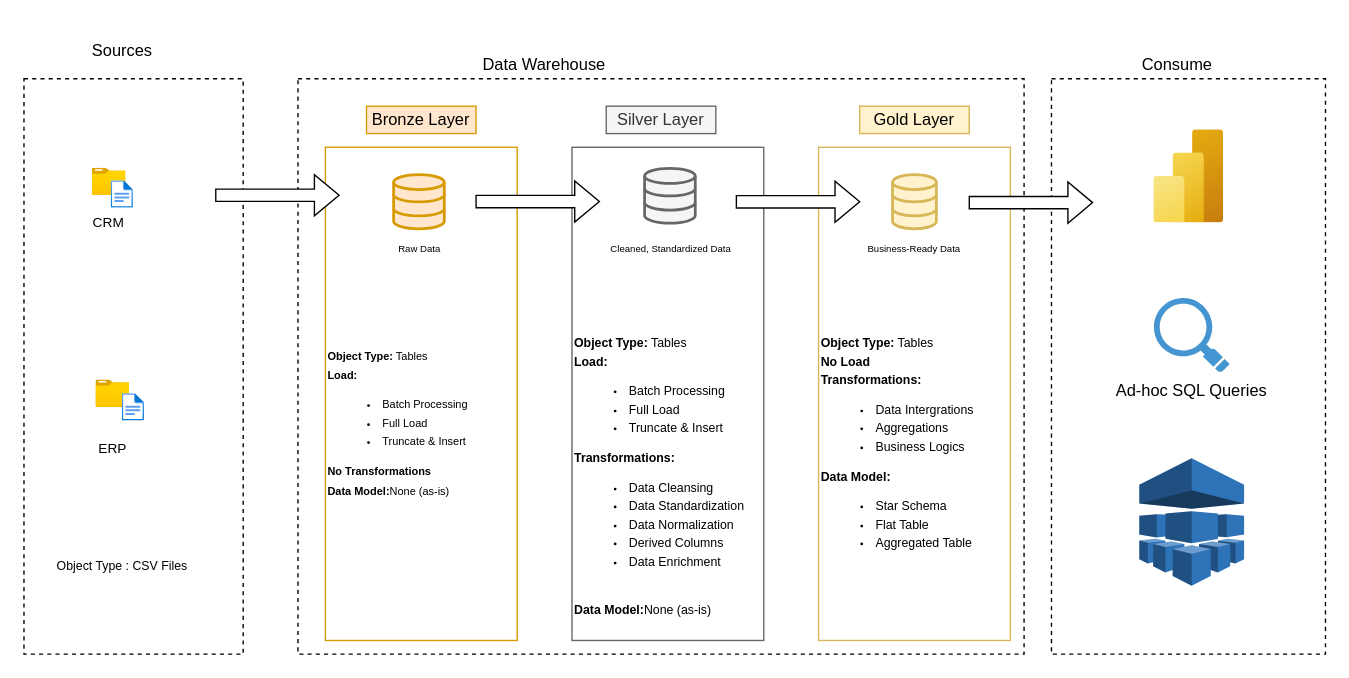
The diagram is 1349 pixels wide and 678 high, and some of its shapes have lost their labels. Here are the shapes that lost their labels. From the top down, the centre of each, then its label:
At (x=1188, y=175): "BI & Reporting".
At (x=1191, y=521): "Machine Learning".
